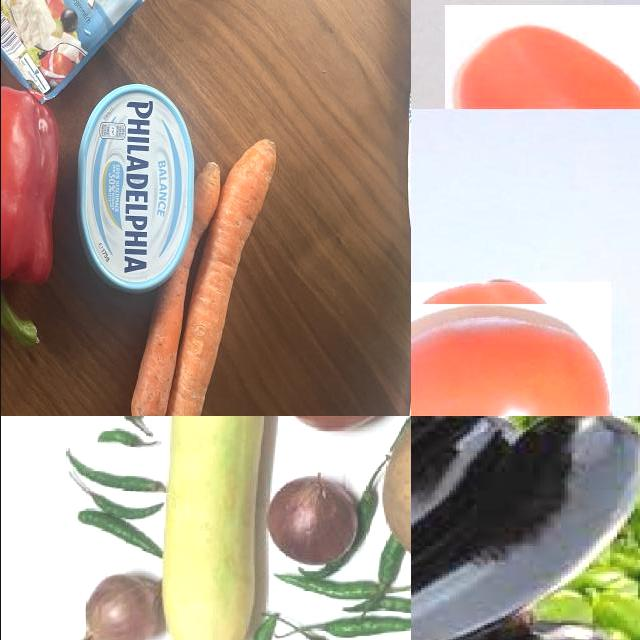bell_pepper: (1, 90, 68, 324)
carrot: (127, 131, 290, 417)
eggplant: (411, 417, 640, 640), (411, 417, 519, 531)
onion: (266, 468, 357, 574), (69, 570, 168, 640)
tomato: (411, 283, 611, 417), (445, 5, 640, 110)
